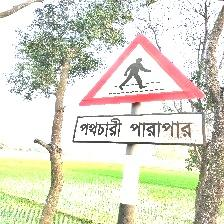Pedestrian-crossing: (75, 32, 208, 148)
